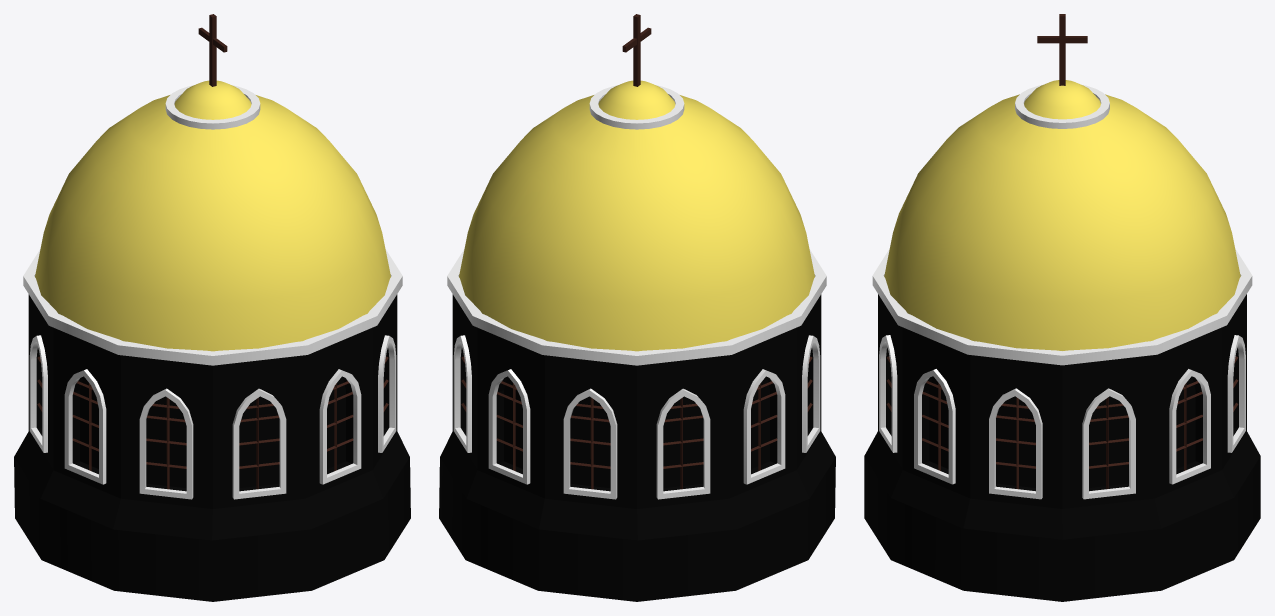
The model's file is roof_building_4.FBX.
3 renders of one model, left to right at view 1: azimuth 30°, elevation 25°; view 2: azimuth 150°, elevation 25°; view 3: azimuth 270°, elevation 25°, orthographic.
Parts seen in each view (by area): view 1: roof_building_4; view 2: roof_building_4; view 3: roof_building_4.
Part boxes in pixels (left/top/right/bottom): roof_building_4: left=14, top=14, right=410, bottom=601; roof_building_4: left=439, top=14, right=835, bottom=601; roof_building_4: left=864, top=14, right=1260, bottom=601.
Size of the model in its own units: 463 by 647 by 462.
